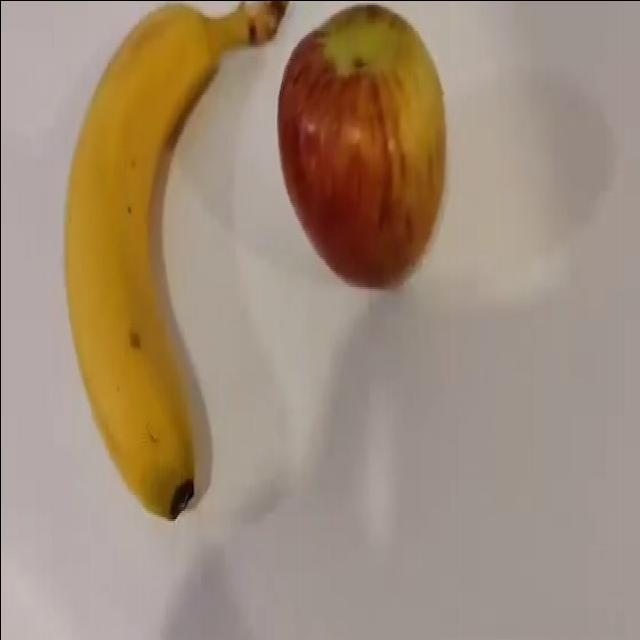Apple: (276, 4, 447, 289)
Banana: (63, 0, 288, 520)
